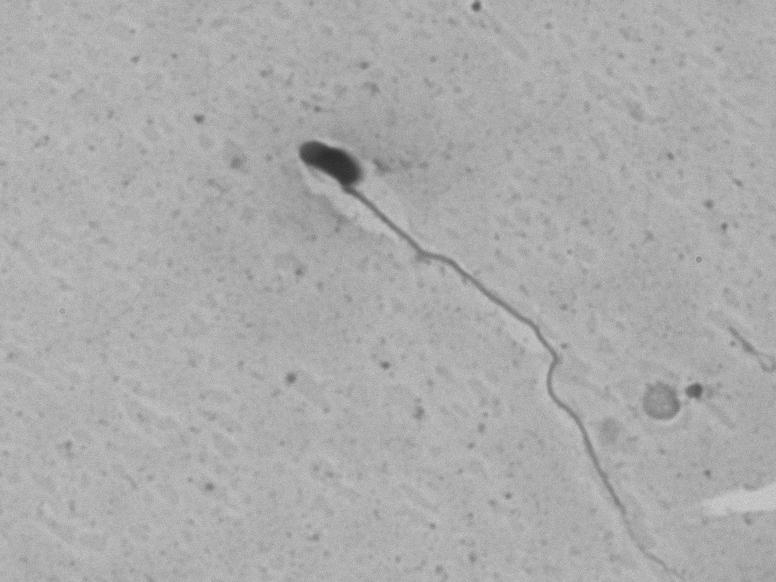Abnormal: (224, 128, 620, 546)
